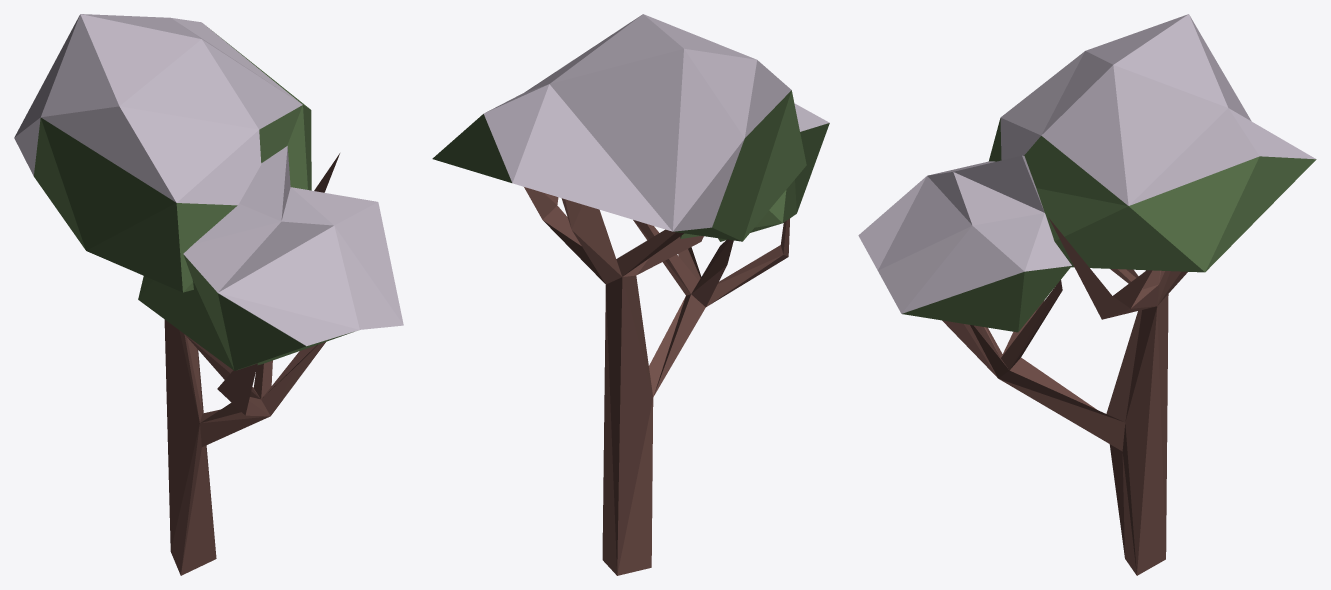
Rendered from CommonTree_Snow_2.lod3.glb.
The picture shows the model from 3 angles, left to right: view 1: azimuth 30°, elevation 25°; view 2: azimuth 150°, elevation 25°; view 3: azimuth 270°, elevation 25°; orthographic projection. The views are drawn at different scales.
Visible parts, largest first — view 1: CommonTree_Snow_2; view 2: CommonTree_Snow_2; view 3: CommonTree_Snow_2.
Part boxes in pixels (bbox=[...]): CommonTree_Snow_2: bbox=[14, 14, 403, 575]; CommonTree_Snow_2: bbox=[432, 14, 829, 575]; CommonTree_Snow_2: bbox=[858, 14, 1316, 575].
Bounding box in the file's own units: 1.71 × 3.12 × 2.52.
